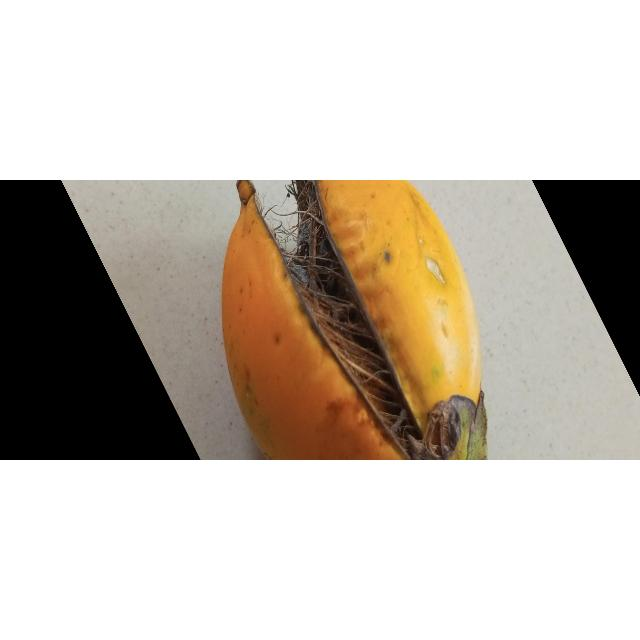damaged: (222, 180, 487, 461)
